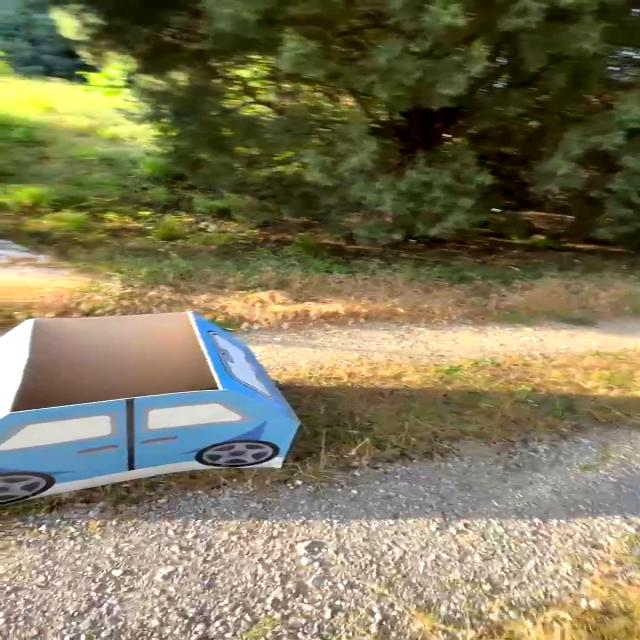blue_car: (0, 281, 345, 523)
